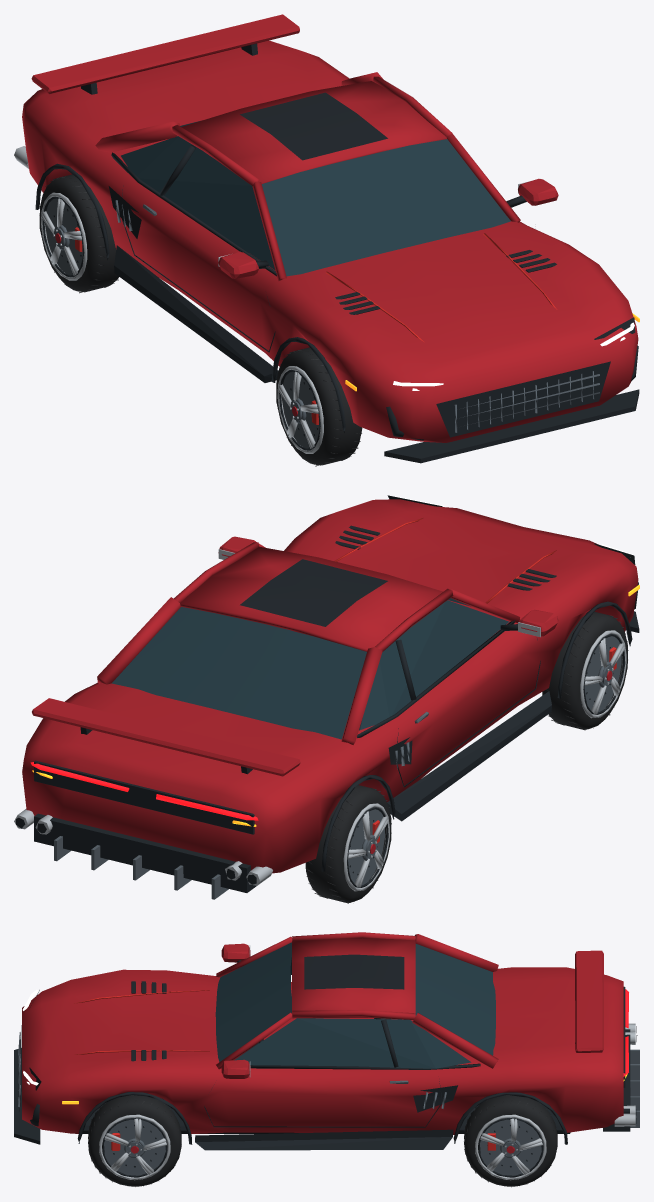
The model's file is sports_viper_gt_lod1.glb.
3 views of the same model, one above another, from view 1: azimuth 30°, elevation 25°; view 2: azimuth 150°, elevation 25°; view 3: azimuth 270°, elevation 25° (orthographic). The views are drawn at different scales.
Parts seen in each view (by area): view 1: BodyMesh, Wheel_FR_Mesh, Wheel_RR_Mesh; view 2: BodyMesh, Wheel_FR_Mesh, Wheel_RR_Mesh; view 3: BodyMesh, Wheel_RL_Mesh, Wheel_FL_Mesh.
Boxes of the visible parts, x1,y1,x2,y2 form: BodyMesh: [14, 14, 639, 463]; Wheel_FR_Mesh: [276, 347, 362, 466]; Wheel_RR_Mesh: [39, 174, 118, 293]; BodyMesh: [14, 495, 639, 899]; Wheel_FR_Mesh: [542, 611, 628, 730]; Wheel_RR_Mesh: [305, 785, 391, 903]; BodyMesh: [14, 932, 639, 1150]; Wheel_RL_Mesh: [464, 1095, 557, 1187]; Wheel_FL_Mesh: [88, 1095, 181, 1186].
Bounding box in the file's own units: 2.29 × 1.35 × 4.76.
